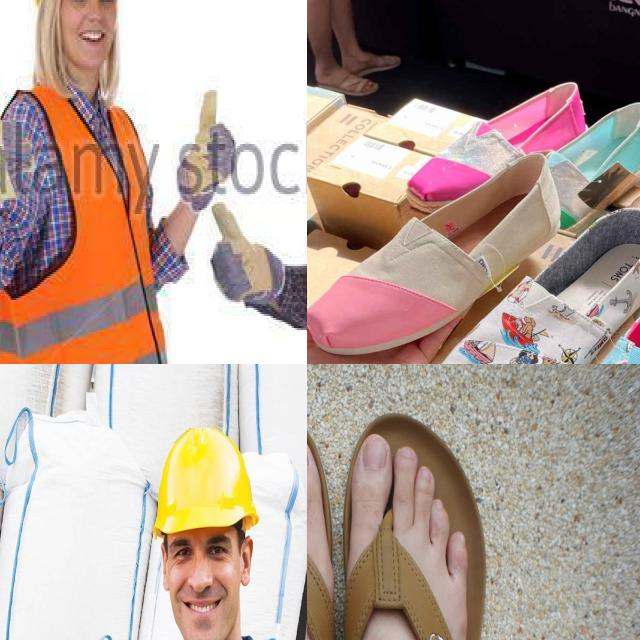No_Ear-Protection: (241, 534, 255, 592), (160, 538, 171, 595)
No_Glasses: (170, 529, 236, 572)
Sandals: (307, 136, 586, 364), (307, 401, 504, 640), (419, 188, 640, 364), (492, 251, 640, 364)
face_nomask: (159, 529, 242, 640), (45, 0, 123, 68)
hand_glove: (171, 78, 239, 212), (208, 204, 286, 320), (0, 86, 38, 214)
head_helmet: (154, 424, 259, 536)
person: (0, 0, 216, 364), (118, 434, 307, 640)
vest: (0, 92, 199, 364)
